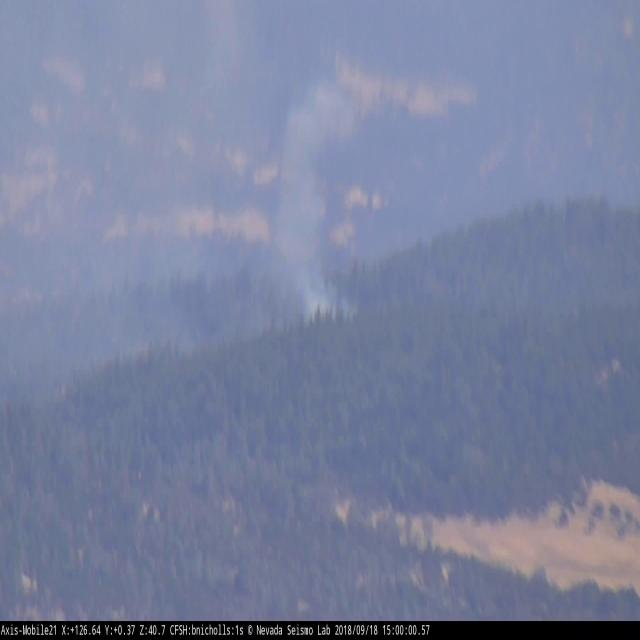smoke: (0, 144, 269, 392), (272, 90, 356, 320)
